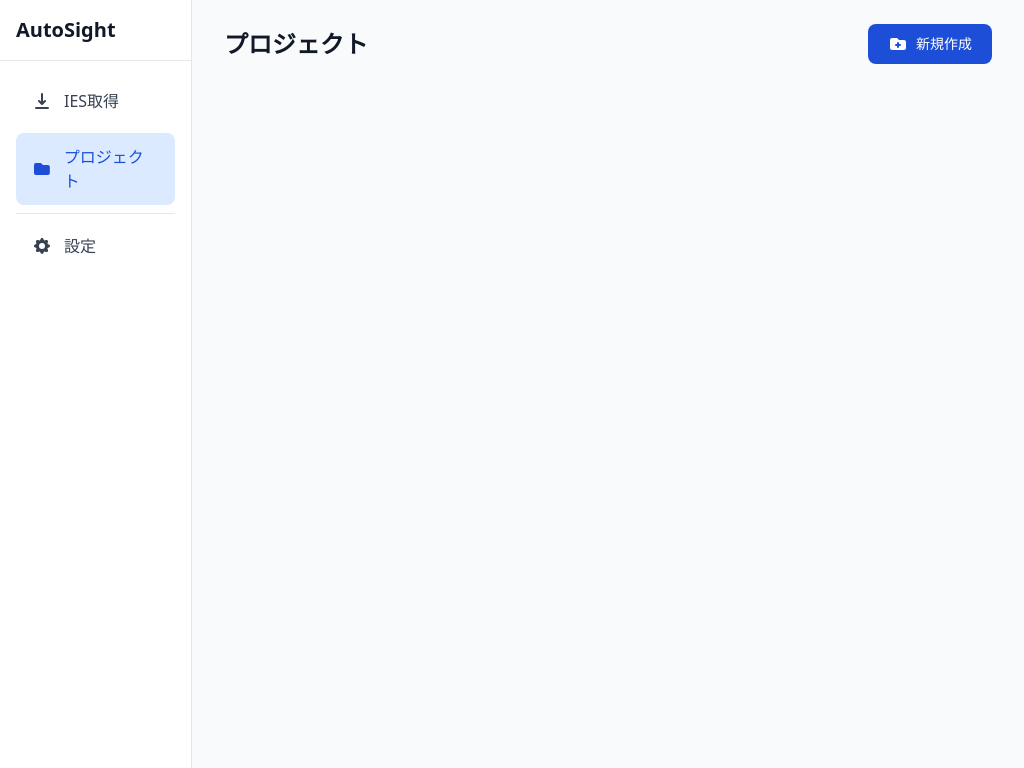
Test case: App › Excelファイル読み込み → 器具一覧画面遷移 › ファイル名が画面に表示される
This screenshot has width=1024, height=768.
Note: IES取得をクリックしてウィザード画面へ
Click the button "IES取得". click: (96, 101)
box: [16,77,175,125]
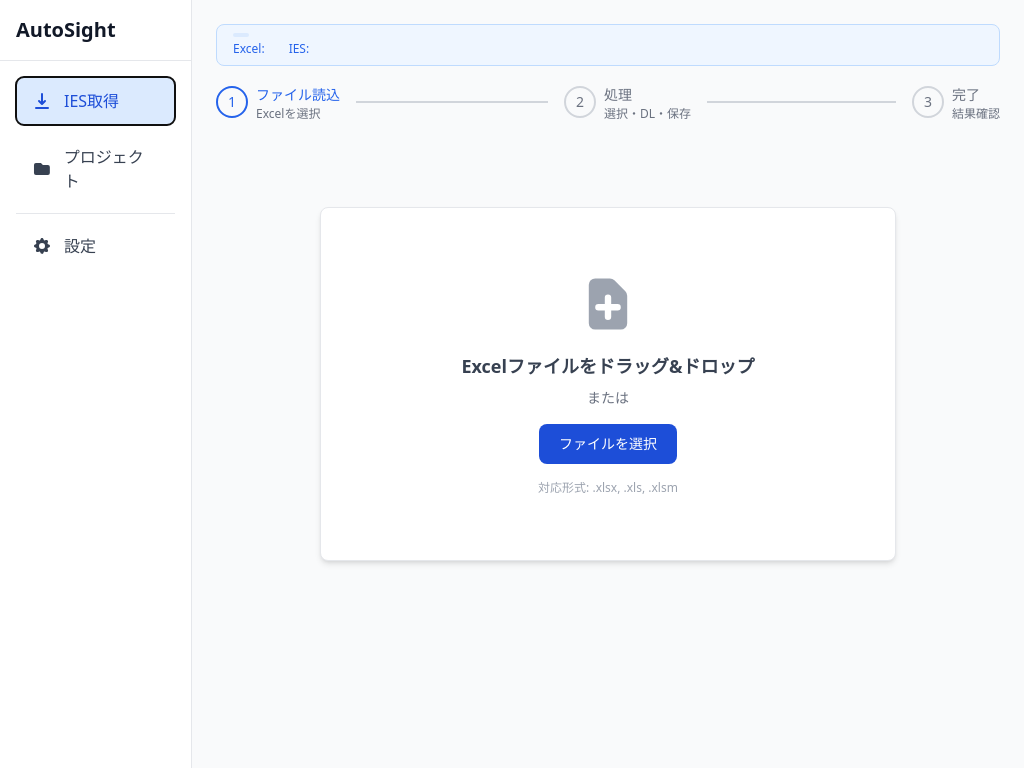
Expected: the button "ファイルを選択" is shown
Click the button "ファイルを選択". click: (608, 444)
box: [539,424,677,464]
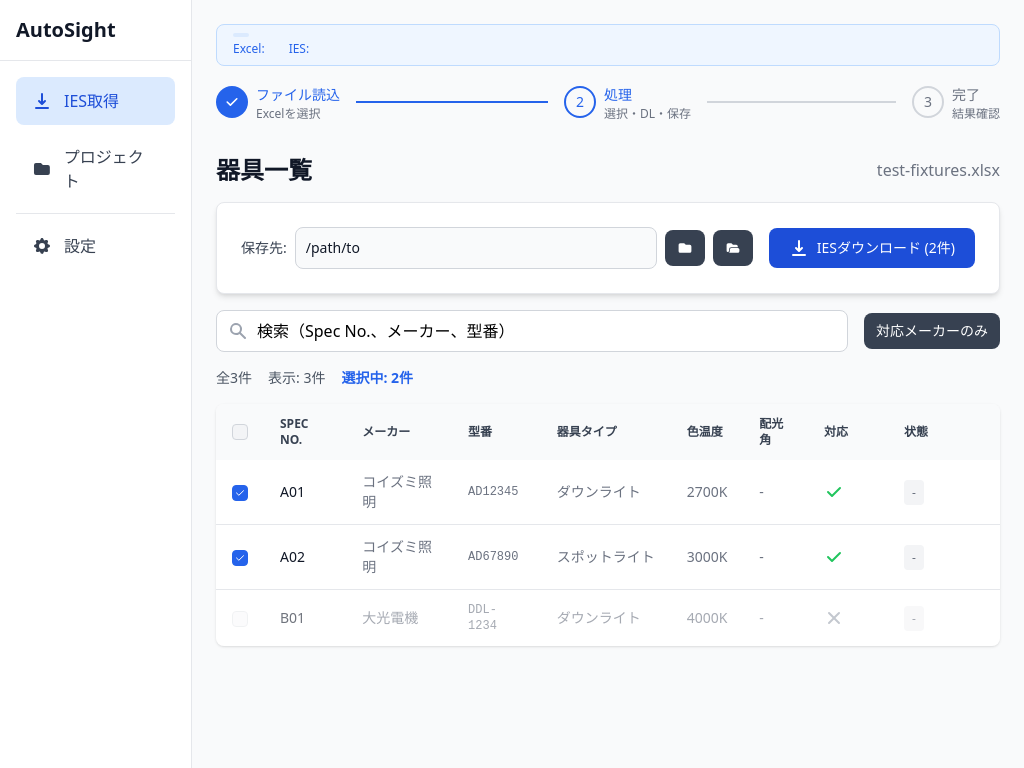
Expected: the text "test-fixtures.xlsx" is shown, [877,158,1000,182]
